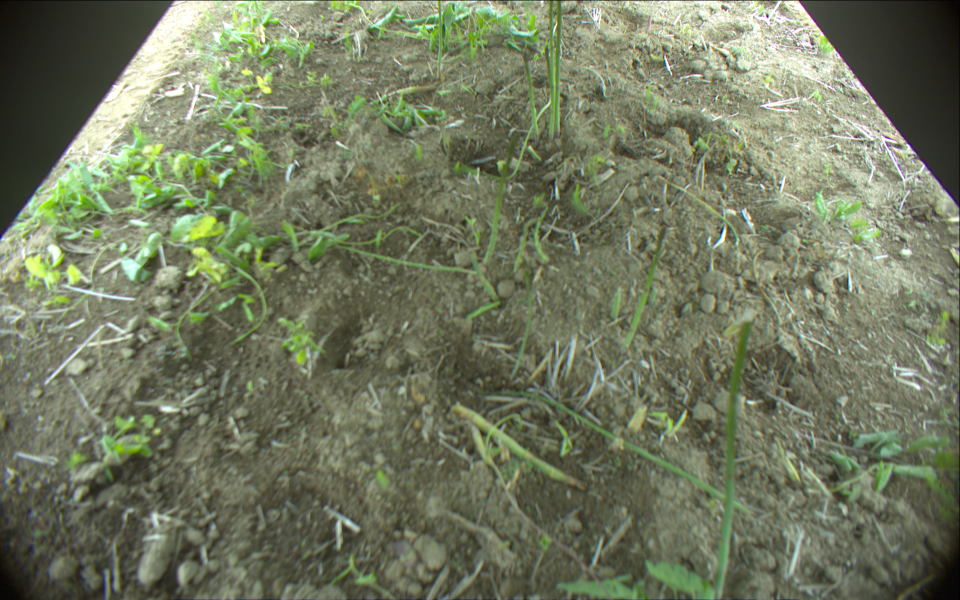aspa: (515, 393, 757, 519), (711, 321, 754, 600), (452, 403, 581, 489), (626, 223, 668, 347), (482, 133, 517, 264), (520, 45, 540, 139), (468, 249, 499, 302), (532, 206, 553, 264), (544, 48, 553, 144), (434, 1, 444, 68), (609, 283, 623, 324), (558, 1, 562, 137), (548, 1, 555, 73)
